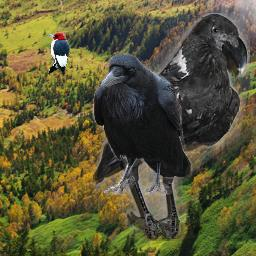Crow: (93, 13, 250, 241), (92, 52, 192, 195)
Woodpecker: (47, 31, 70, 76)
